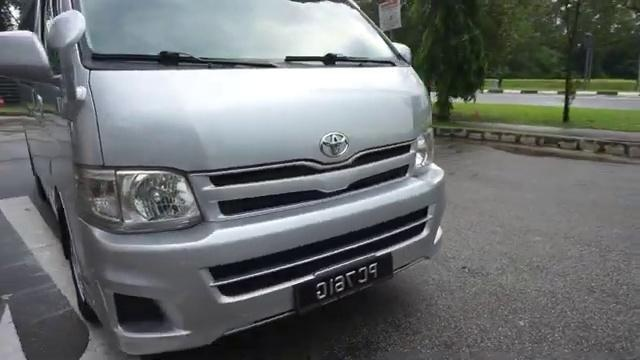van: (0, 0, 455, 352)
